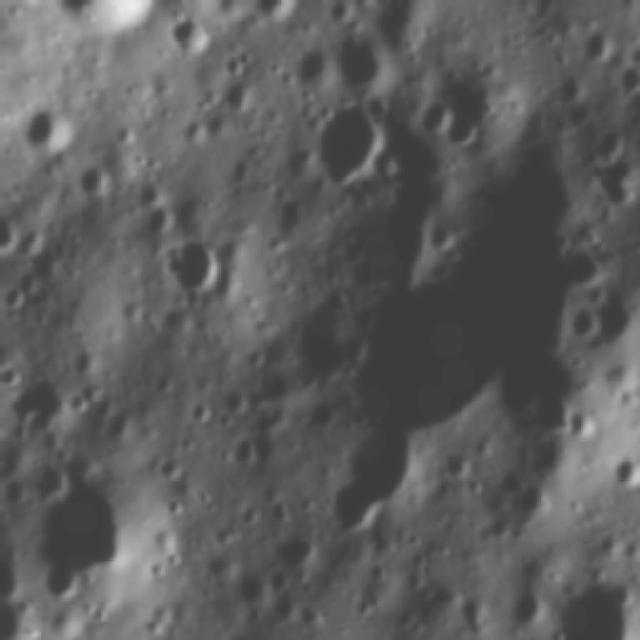crater: (317, 108, 383, 188), (16, 103, 78, 162), (168, 236, 226, 295), (564, 240, 604, 288), (166, 15, 208, 51), (510, 590, 547, 628), (418, 91, 452, 132), (564, 406, 598, 446), (216, 379, 253, 415), (582, 29, 620, 63), (100, 404, 134, 436), (232, 429, 262, 465), (607, 454, 640, 485), (568, 310, 603, 338), (148, 458, 184, 485), (452, 109, 478, 145), (221, 86, 256, 112), (608, 580, 634, 614), (459, 472, 488, 501), (3, 280, 29, 312), (150, 370, 179, 396), (25, 222, 47, 249), (298, 537, 320, 561), (162, 496, 189, 515), (112, 125, 139, 144), (223, 50, 246, 72), (142, 188, 170, 206), (143, 563, 171, 580), (162, 547, 182, 568)
